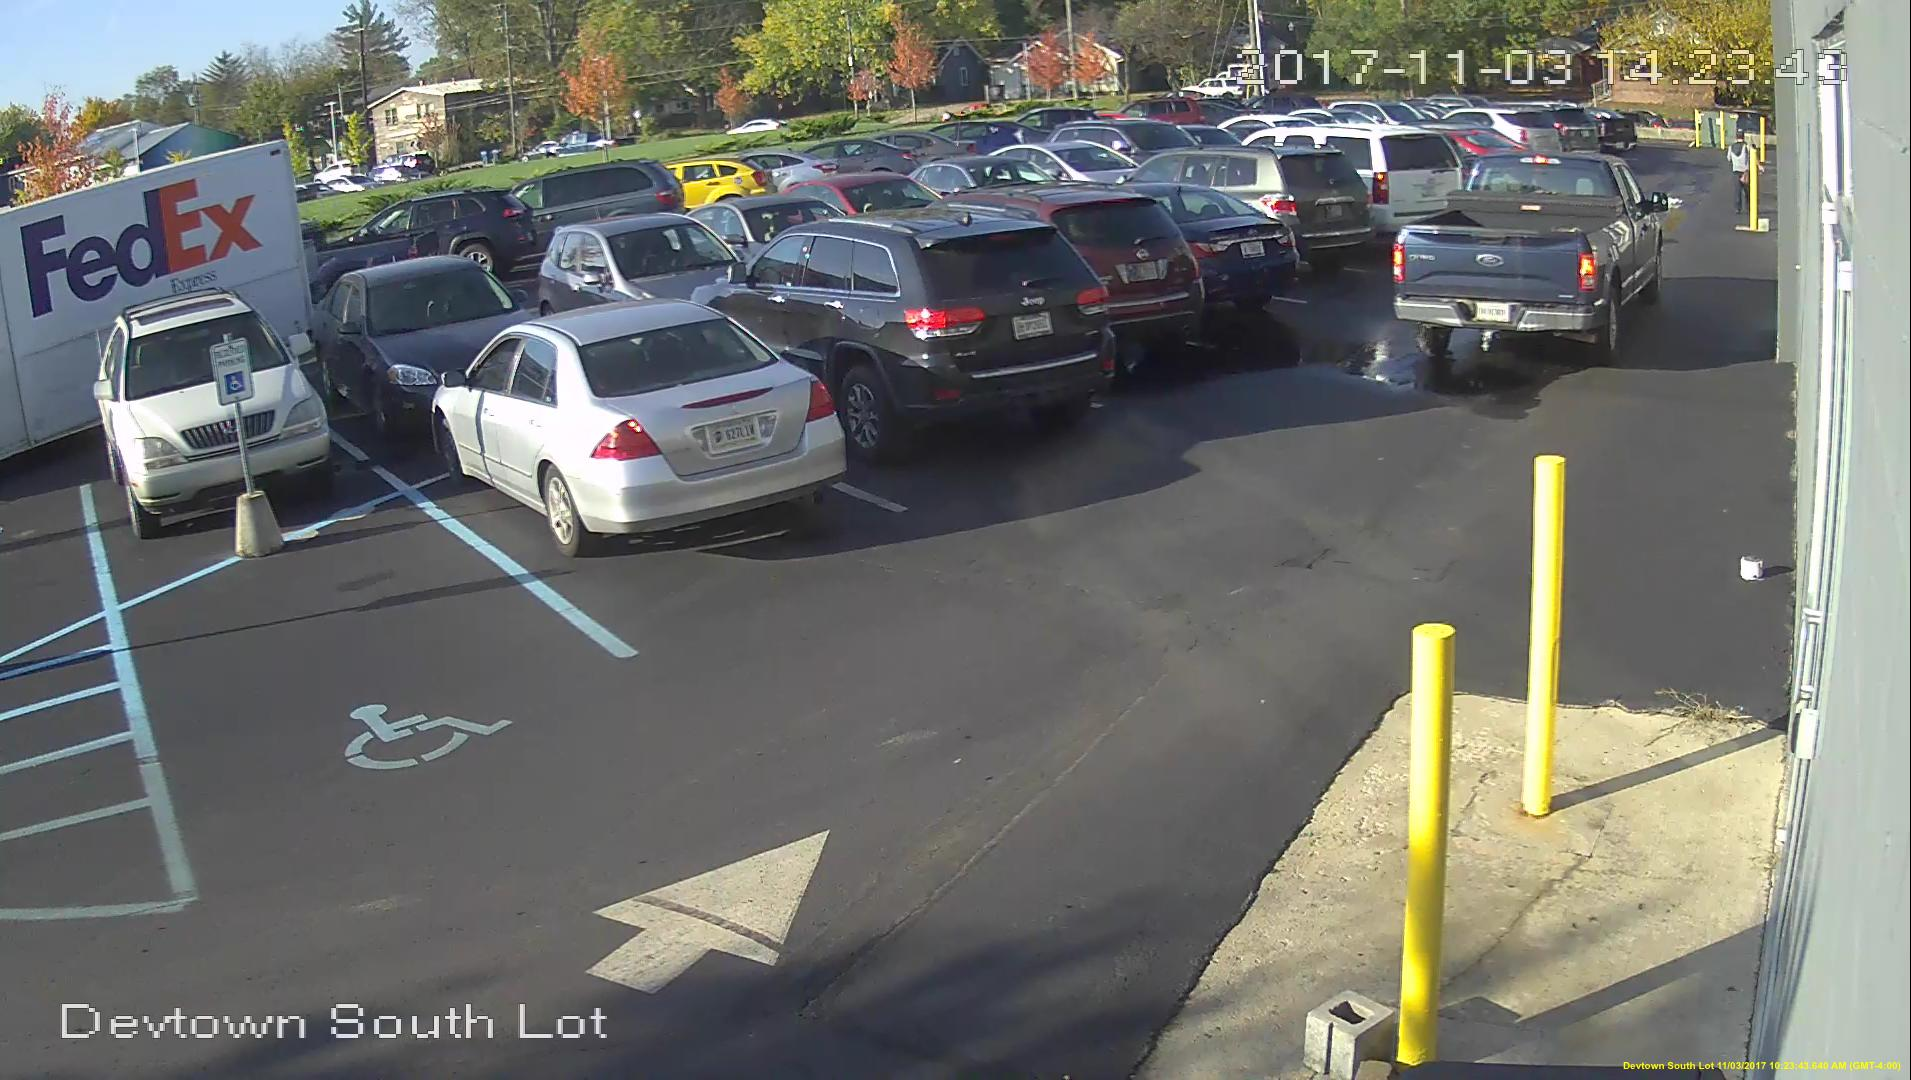fedex_truck: (1, 140, 319, 458)
